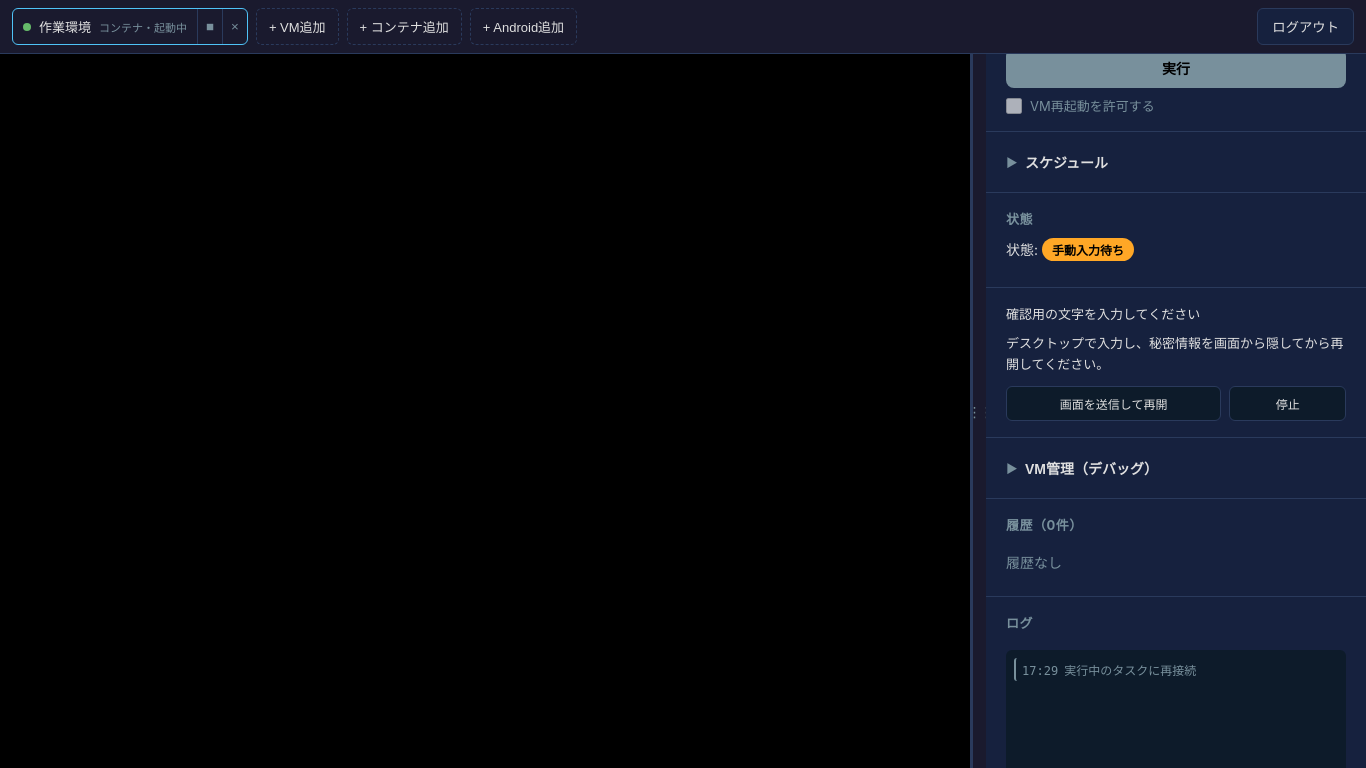
conflict reconciliation treats a stopped worker with a remaining active phase as idle
(page scrolled)
Click the button "停止": (1288, 404) [1229,386,1346,421]
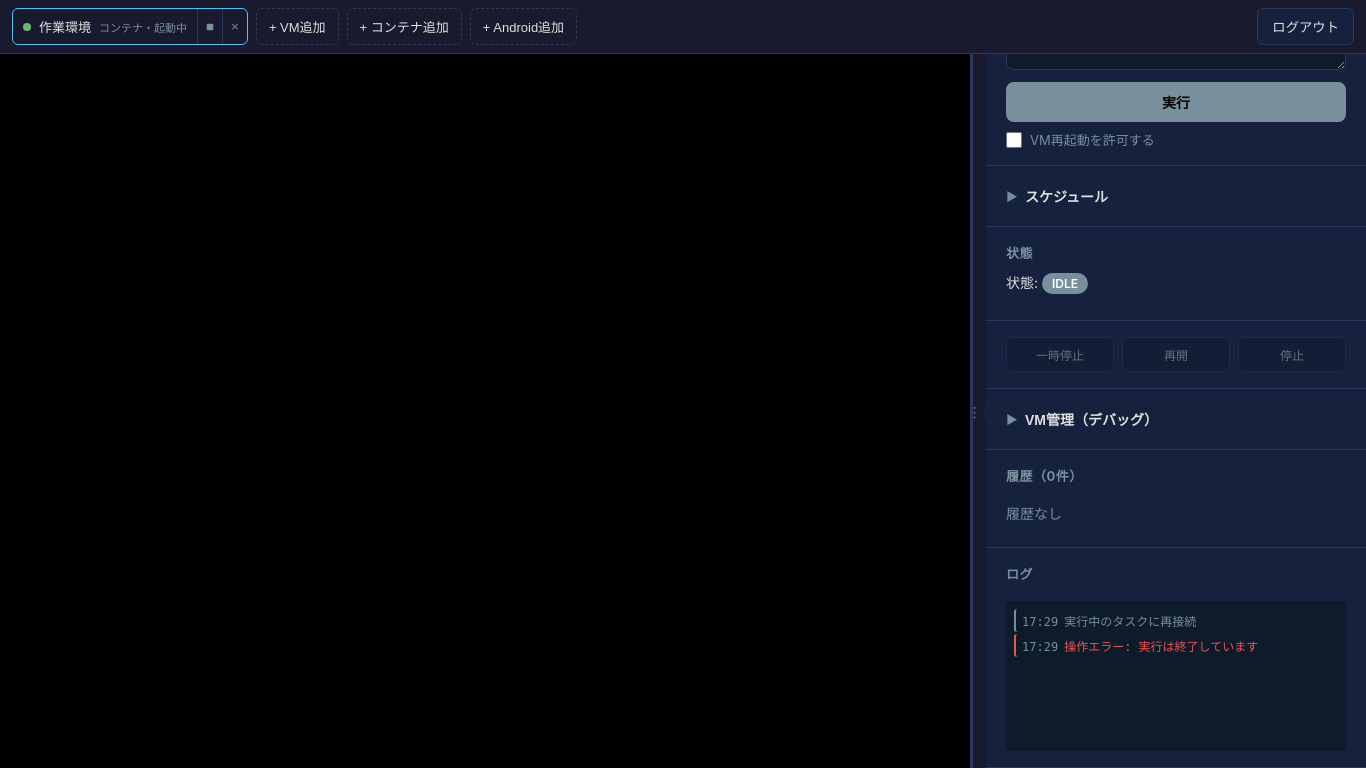
Result: the text "確認用の文字を入力してください" is gone
Result: the button "一時停止" is disabled at [1006,337,1114,372]
Result: the button "停止" is disabled at [1238,337,1346,372]
